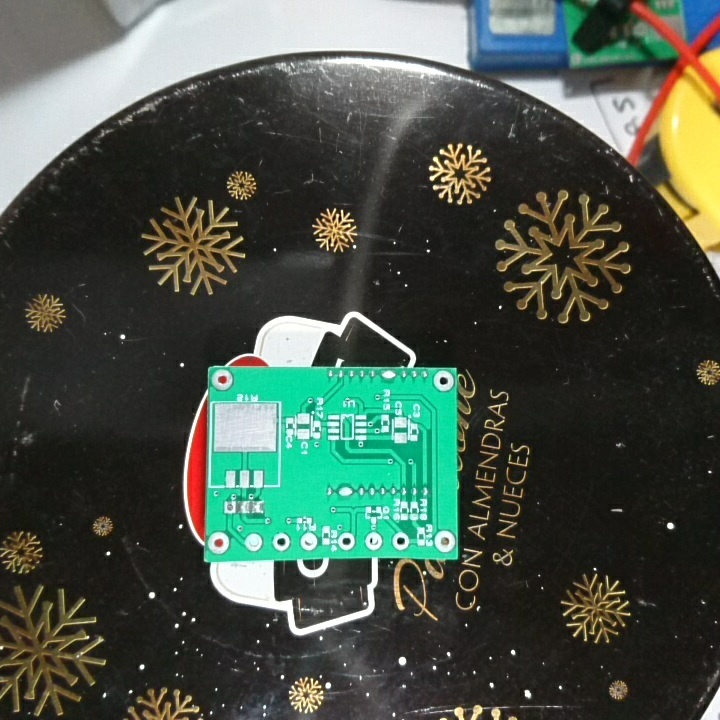F: (207, 529, 233, 556), (210, 367, 236, 393), (430, 369, 457, 394), (433, 529, 457, 554), (242, 532, 265, 555), (336, 531, 358, 554), (362, 530, 384, 552), (390, 529, 410, 552), (299, 530, 318, 554), (271, 531, 292, 552), (222, 498, 238, 517)
P: (334, 482, 356, 500), (379, 368, 399, 385)
